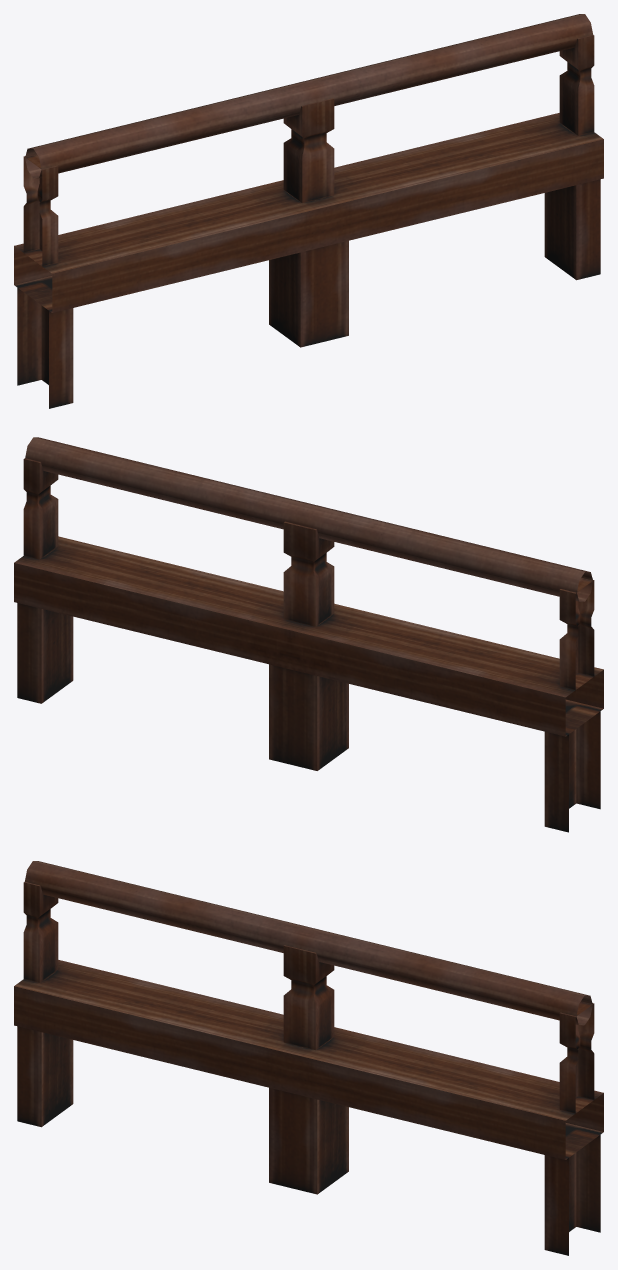
The model's file is Balcony Handrail.fbx.
3 views of the same model, one above another, from view 1: azimuth 30°, elevation 25°; view 2: azimuth 150°, elevation 25°; view 3: azimuth 330°, elevation 25° (orthographic).
Parts seen in each view (by area): view 1: Balcony Handrail; view 2: Balcony Handrail; view 3: Balcony Handrail.
Boxes of the visible parts, x1,y1,x2,y2 form: Balcony Handrail: (14,14,603,408); Balcony Handrail: (14,437,603,832); Balcony Handrail: (14,861,603,1255).
Size of the model in its own units: 2 by 0.862 by 0.24.
